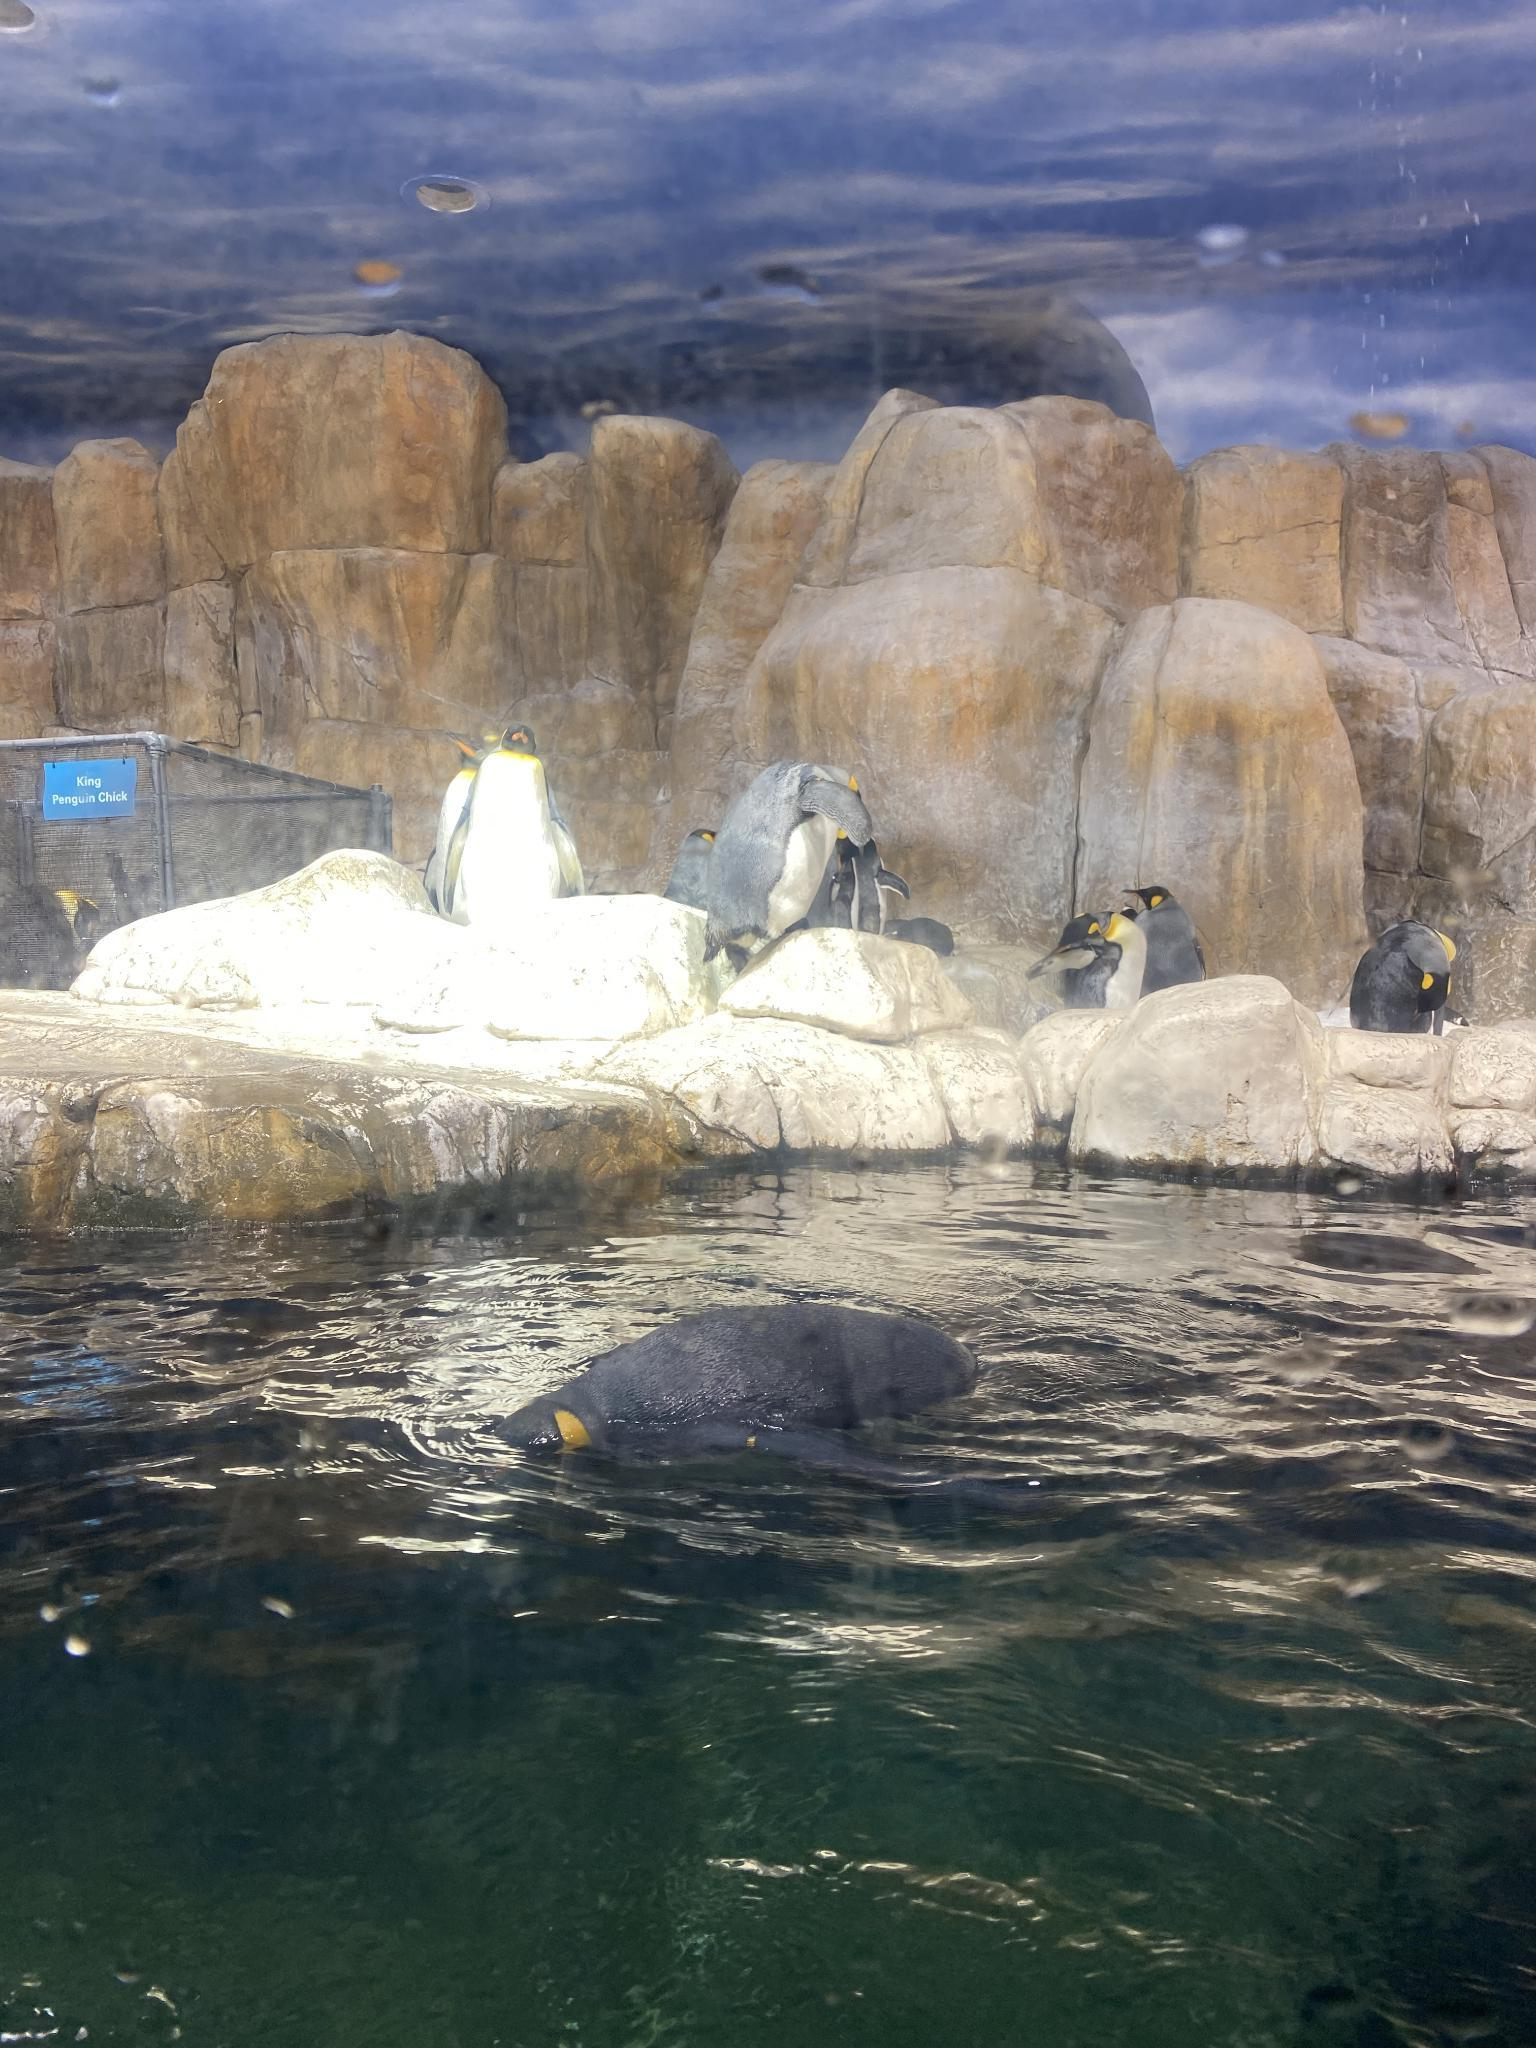penguin: (489, 1298, 1034, 1503), (703, 761, 868, 972), (450, 719, 586, 924), (1347, 919, 1457, 1032), (431, 735, 494, 914), (1123, 880, 1207, 993), (1070, 905, 1146, 1006), (662, 824, 720, 905)
